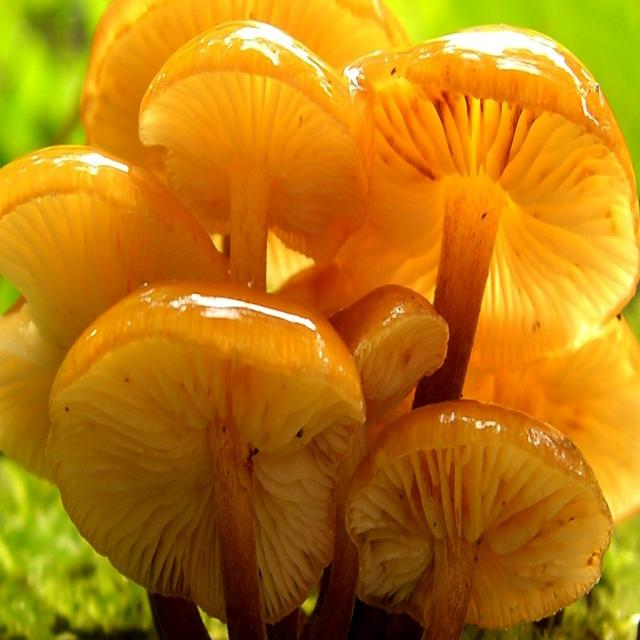mushroom: (0, 0, 640, 639), (324, 404, 618, 640)
